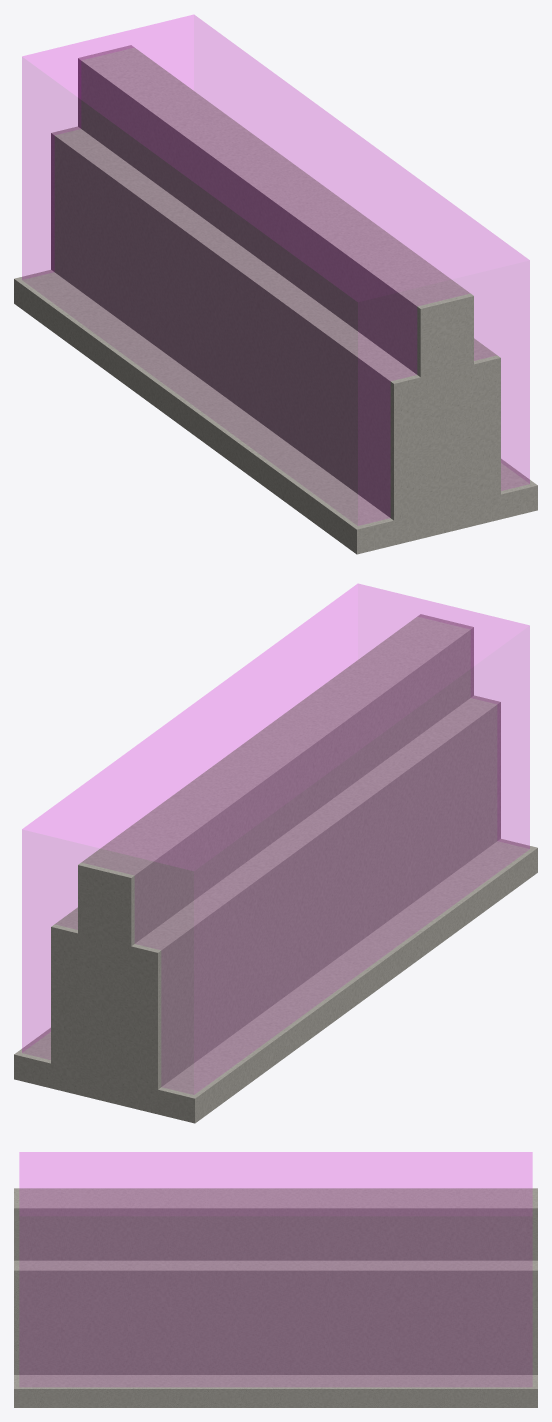
The model's file is krail_concrete_2m.dae.
3 renders of one model, top to bottom at view 1: azimuth 30°, elevation 25°; view 2: azimuth 150°, elevation 25°; view 3: azimuth 270°, elevation 25°, orthographic. The views are drawn at different scales.
Visible parts, largest first — view 1: Colmesh_krail-1, krail_mid, krail_top, krail_base; view 2: Colmesh_krail-1, krail_mid, krail_top, krail_base; view 3: Colmesh_krail-1, krail_mid, krail_top, krail_base.
Part boxes in pixels (x1,y1,x2,y2): Colmesh_krail-1: (22,15,529,525); krail_mid: (51,126,500,520); krail_top: (78,45,473,377); krail_base: (14,270,537,554); Colmesh_krail-1: (22,584,529,1094); krail_mid: (51,695,500,1089); krail_top: (78,614,473,946); krail_base: (14,839,537,1123); Colmesh_krail-1: (19,1152,532,1386); krail_mid: (14,1260,537,1374); krail_top: (14,1188,537,1260); krail_base: (14,1375,537,1407).
Bounding box in the file's own units: 0.61 × 2 × 0.8.
2 materials, 1 textured.
